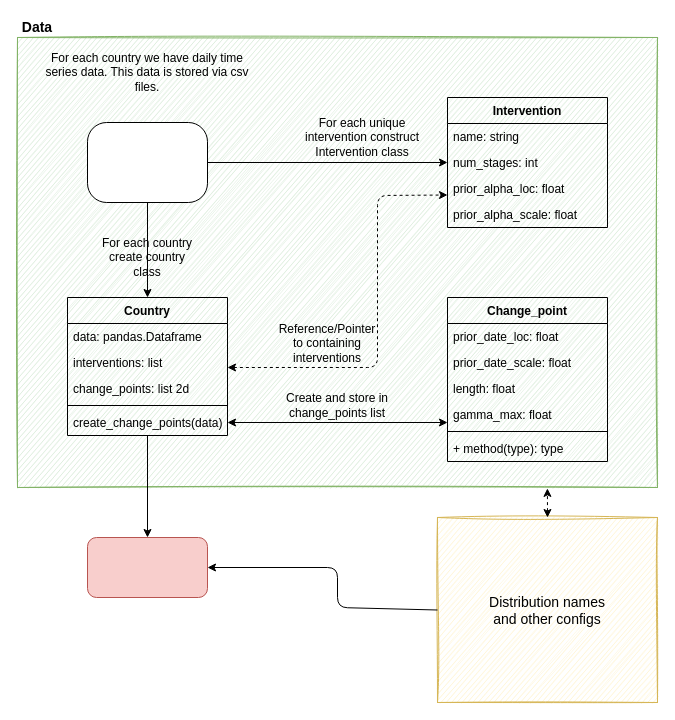
Some shapes in this 675 by 720 pixel diagram are drawn without their labels. Each missing label, with the centre of its shape:
ModelParams: point 147,567
Tests New cases Intervention 1 Intervention 2 ...: point 147,162
